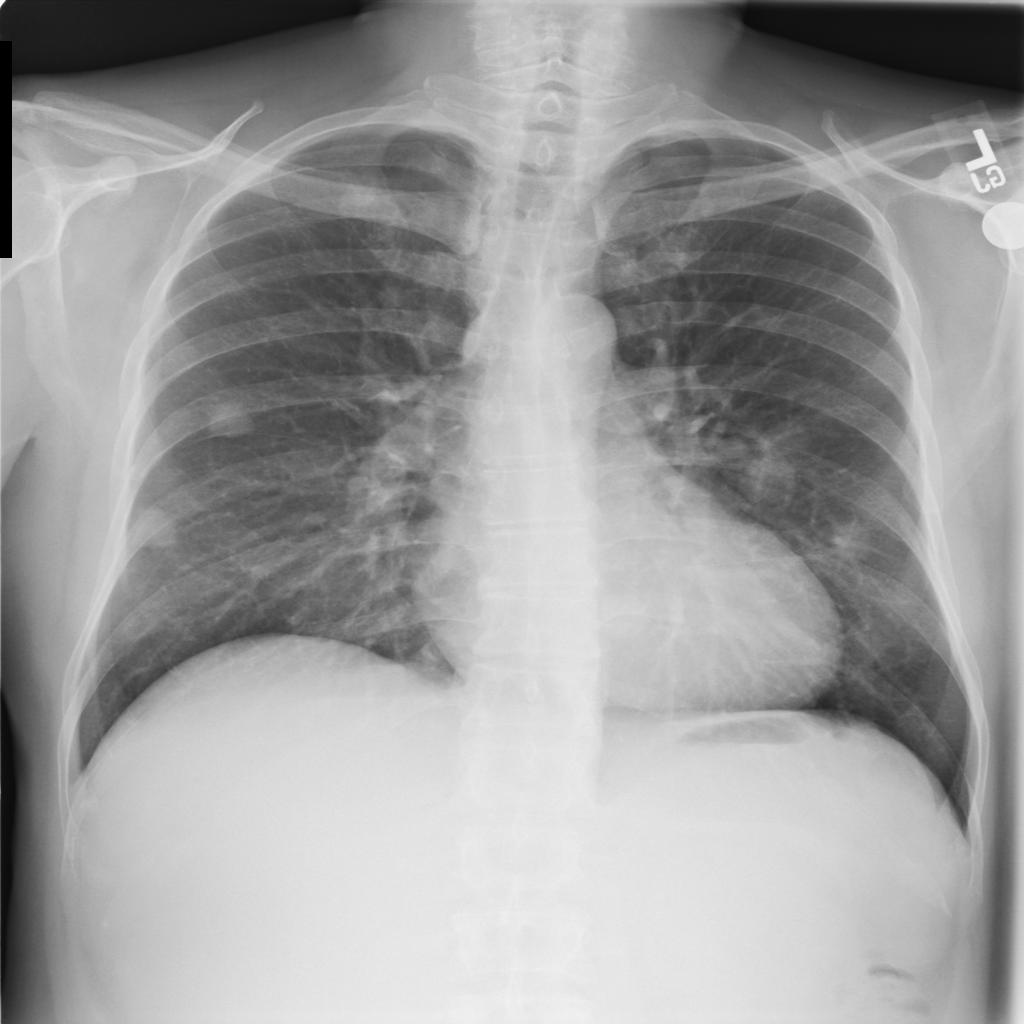nodule: (729, 438, 810, 511), (119, 495, 195, 563), (590, 577, 667, 644), (807, 508, 885, 573), (191, 390, 270, 451)
